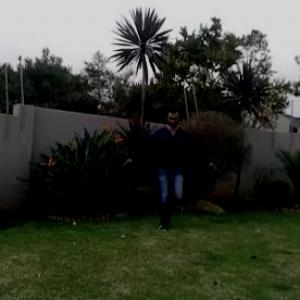land: (112, 100, 216, 233)
